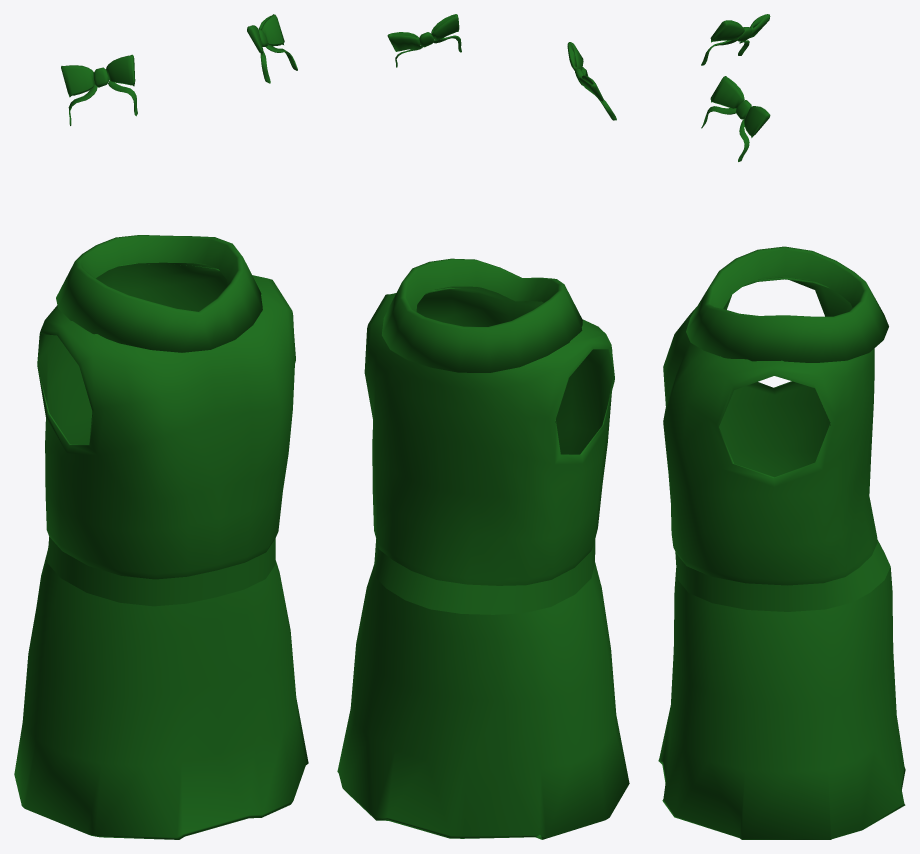
File: HelenSPP.fbx
3 renders of one model, left to right at view 1: azimuth 30°, elevation 25°; view 2: azimuth 150°, elevation 25°; view 3: azimuth 270°, elevation 25°, orthographic. The views are drawn at different scales.
Parts seen in each view (by area): view 1: Latex Helen.008; view 2: Latex Helen.008; view 3: Latex Helen.008.
Boxes of the visible parts, left/top/right/bottom form: Latex Helen.008: left=14, top=14, right=308, bottom=839; Latex Helen.008: left=337, top=14, right=629, bottom=839; Latex Helen.008: left=658, top=14, right=905, bottom=839.
Size of the model in its own units: 44 by 123 by 37.69.
